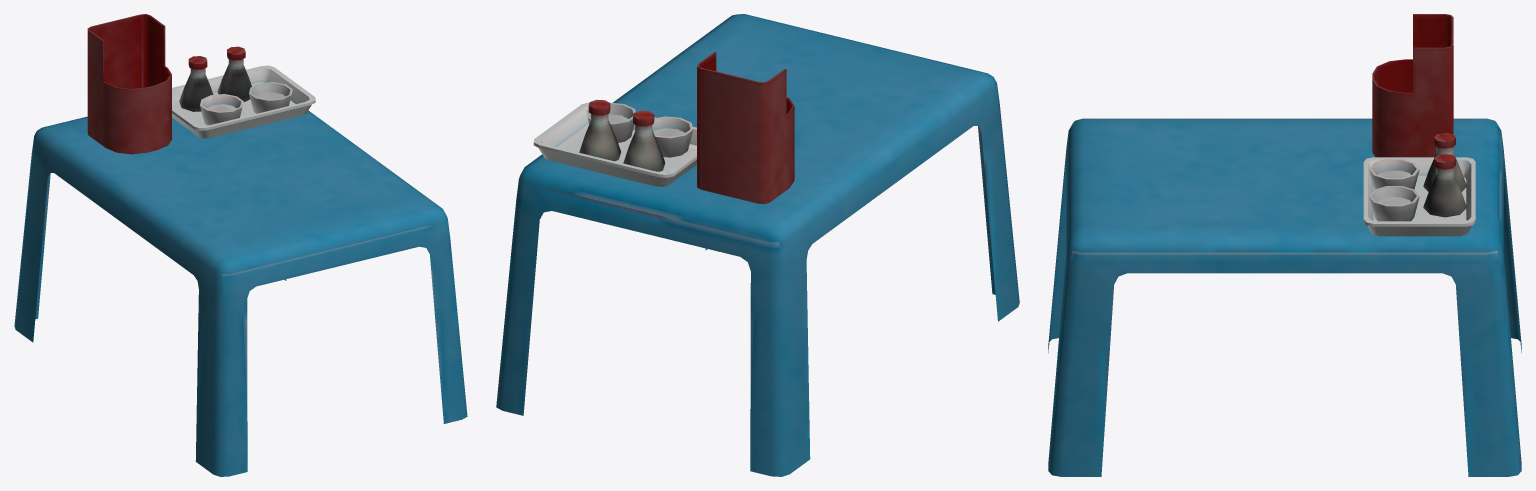
File: BanAn.fbx
3 views of the same model, side by side, from view 1: azimuth 30°, elevation 25°; view 2: azimuth 150°, elevation 25°; view 3: azimuth 270°, elevation 25° (orthographic). The views are drawn at different scales.
Visible parts, largest first — view 1: Ban; view 2: Ban; view 3: Ban.
Part boxes in pixels (x1,y1,x2,y2): Ban: (14, 14, 467, 476); Ban: (496, 14, 1019, 476); Ban: (1048, 14, 1521, 476).
Size of the model in its own units: 116 by 135 by 166.
